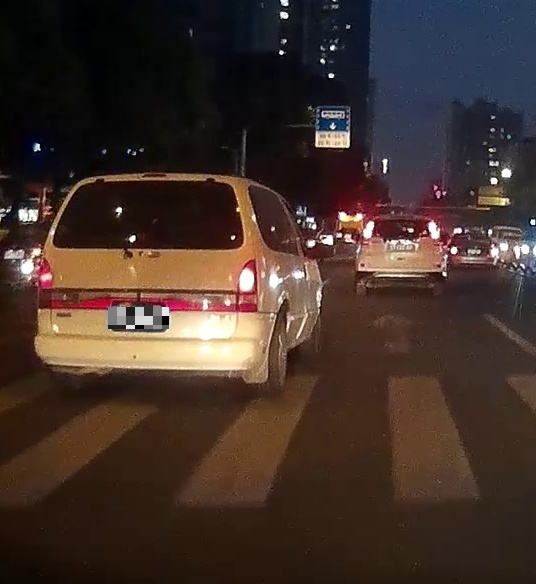L_light: (35, 258, 54, 309), (361, 220, 375, 246)
R_light: (236, 258, 258, 312), (427, 220, 442, 246)
T_light: (142, 173, 167, 178), (395, 219, 410, 222)
night-no: (34, 172, 268, 396), (355, 215, 445, 297)
plate_1: (108, 307, 169, 329)
